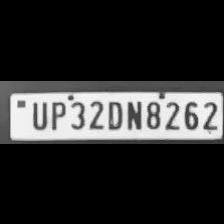2: (86, 96, 104, 130), (200, 97, 218, 130), (162, 98, 180, 130)
3: (66, 96, 86, 130)
6: (180, 97, 198, 130)
8: (142, 97, 162, 129)
D: (104, 97, 124, 129)
N: (124, 97, 142, 130)
P: (47, 98, 66, 130)
U: (28, 98, 48, 130)
